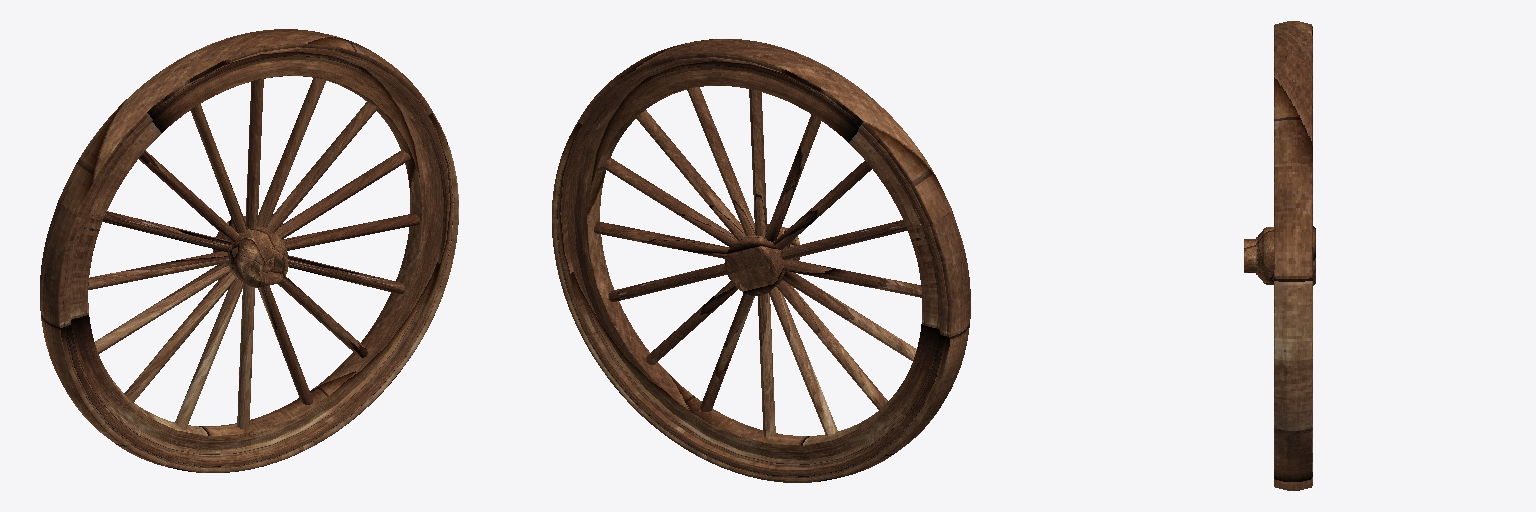
3 views of the same model, side by side, from view 1: azimuth 30°, elevation 25°; view 2: azimuth 150°, elevation 25°; view 3: azimuth 270°, elevation 25° (orthographic).
Visible parts, largest first — view 1: Cylinde349; view 2: Cylinde349; view 3: Cylinde349.
Boxes of the visible parts, x1,y1,x2,y2 form: Cylinde349: [40, 29, 458, 472]; Cylinde349: [552, 39, 970, 482]; Cylinde349: [1244, 21, 1315, 490].
Bounding box in the file's own units: 2.13 × 2.13 × 0.3291.
Materials: 1 (1 with a texture image).